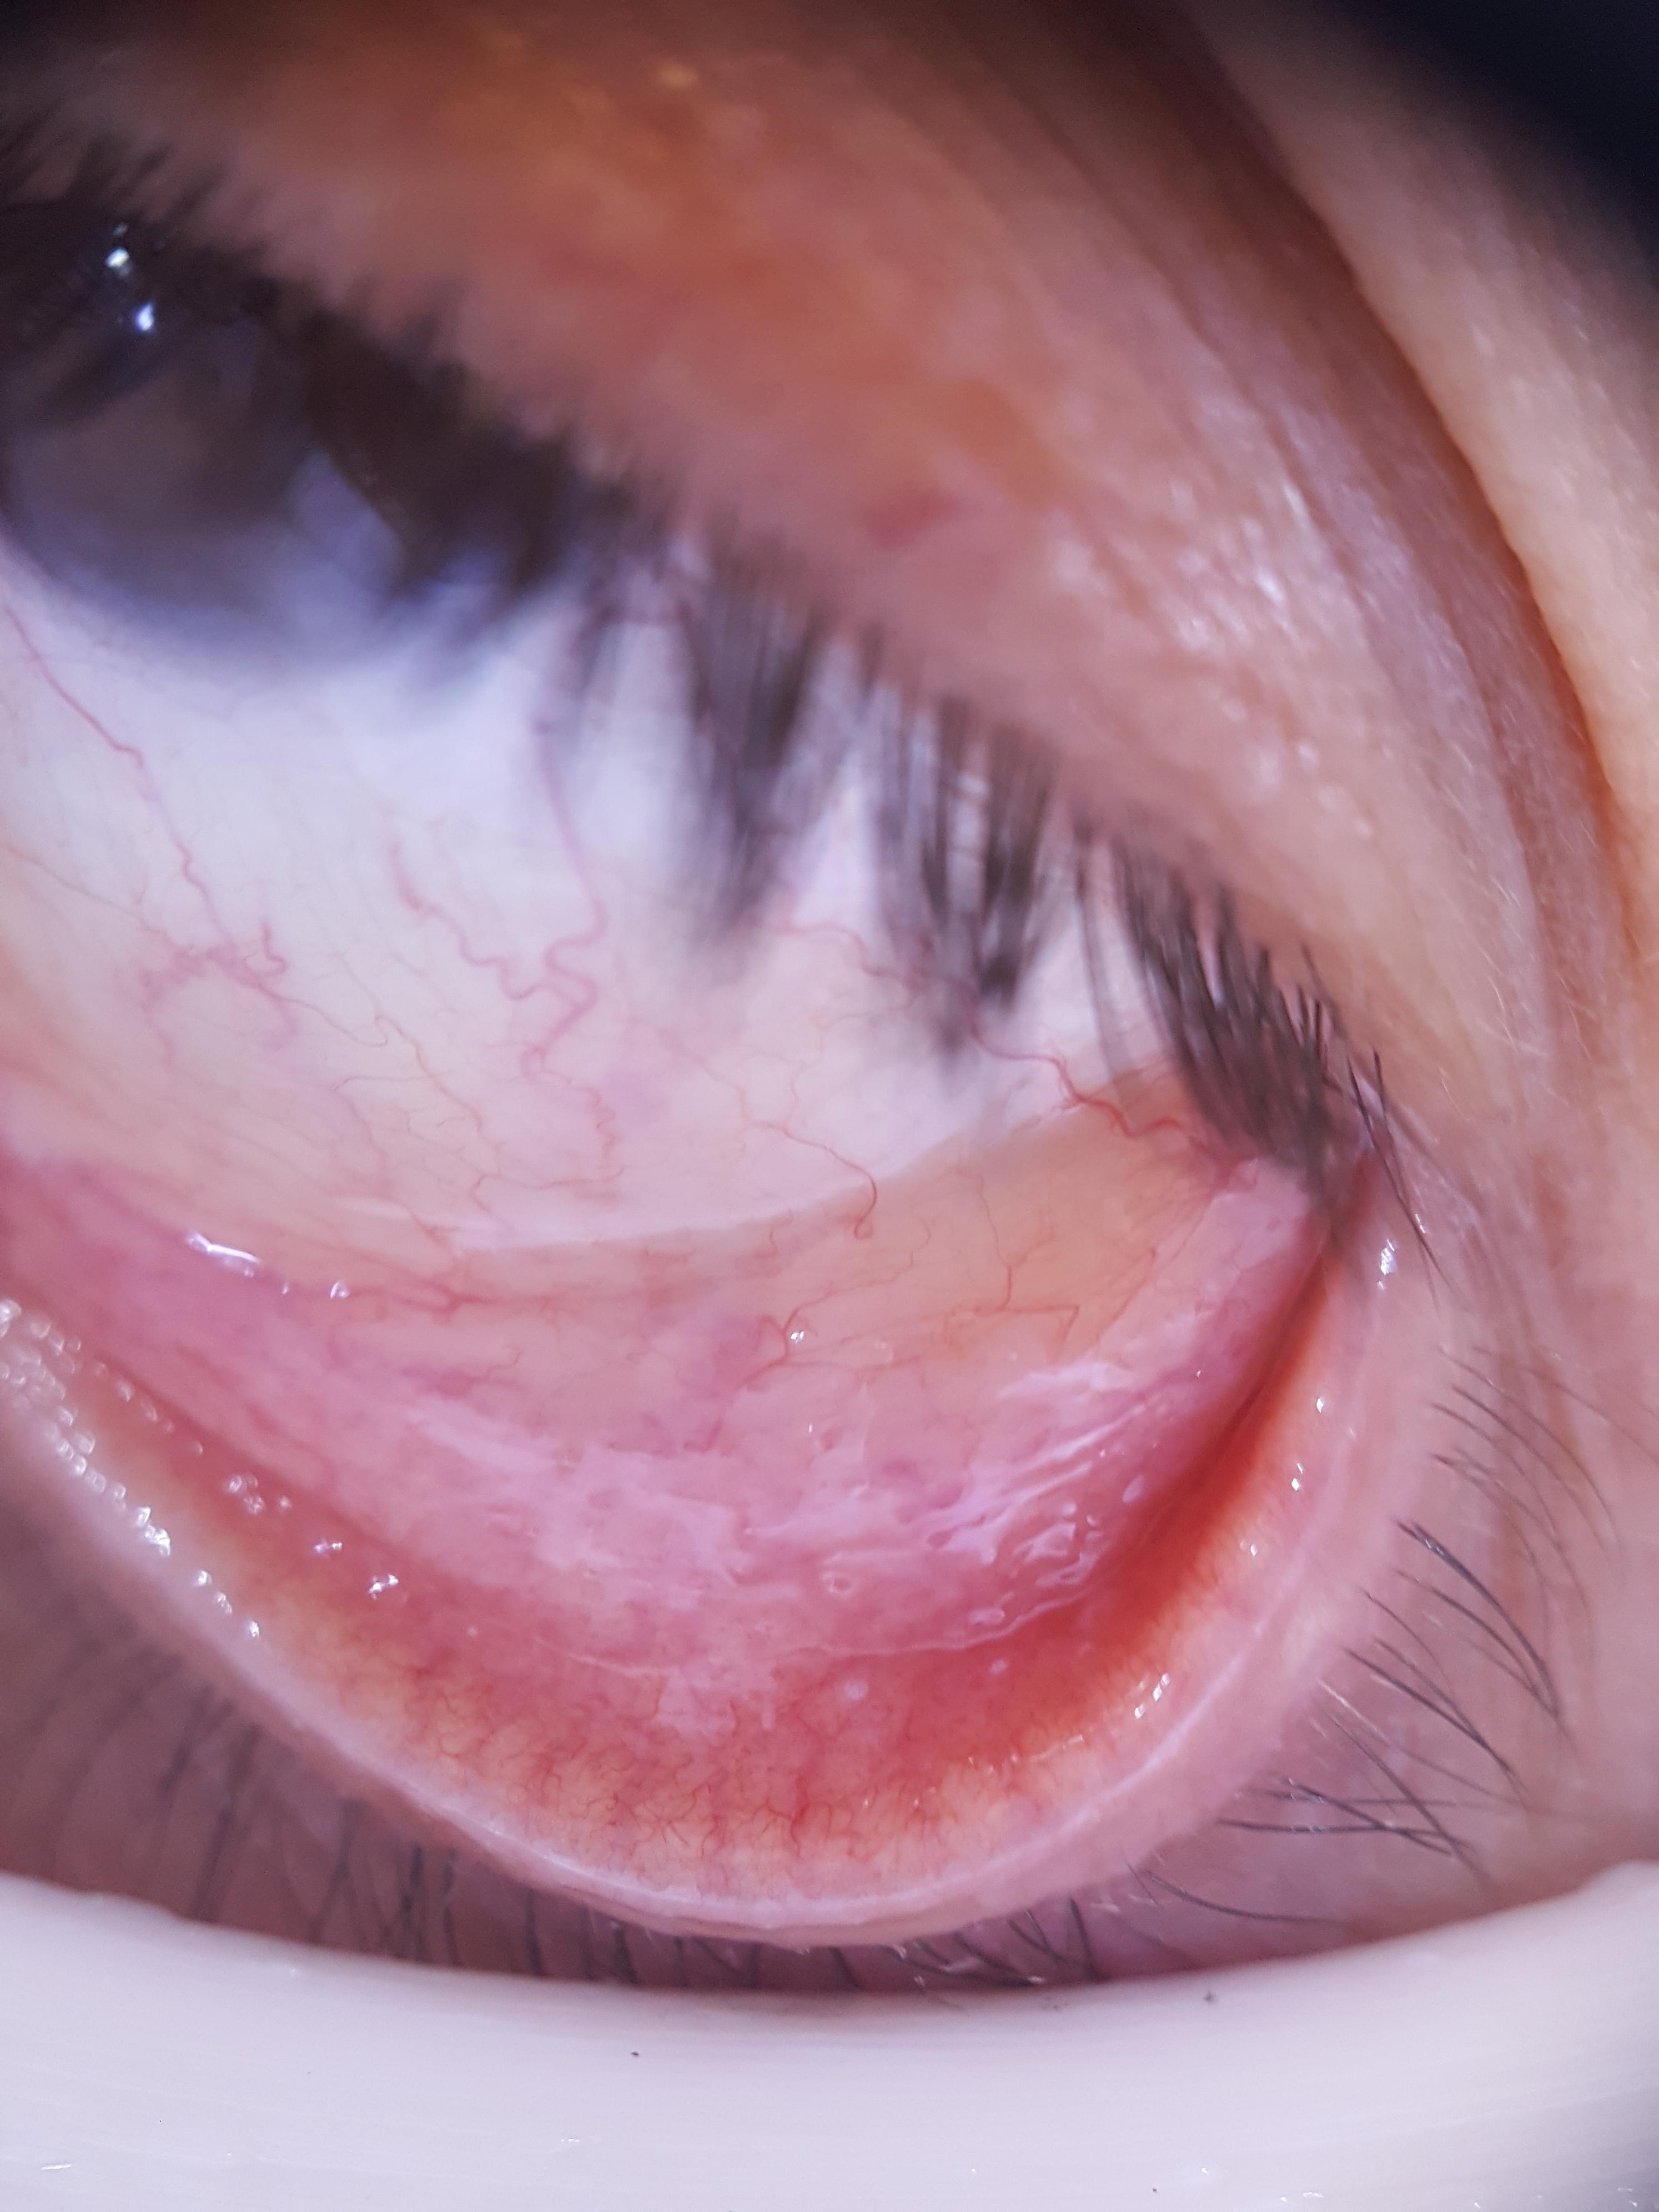forniceal: (0, 1049, 1300, 1649)
forniceal_palpebral: (0, 1038, 1333, 1838)
palpebral: (10, 1282, 1321, 1838)
